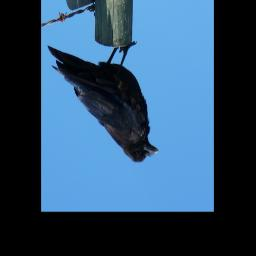Crow: (46, 39, 160, 164)
